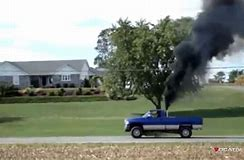smoke: (163, 1, 244, 111)
